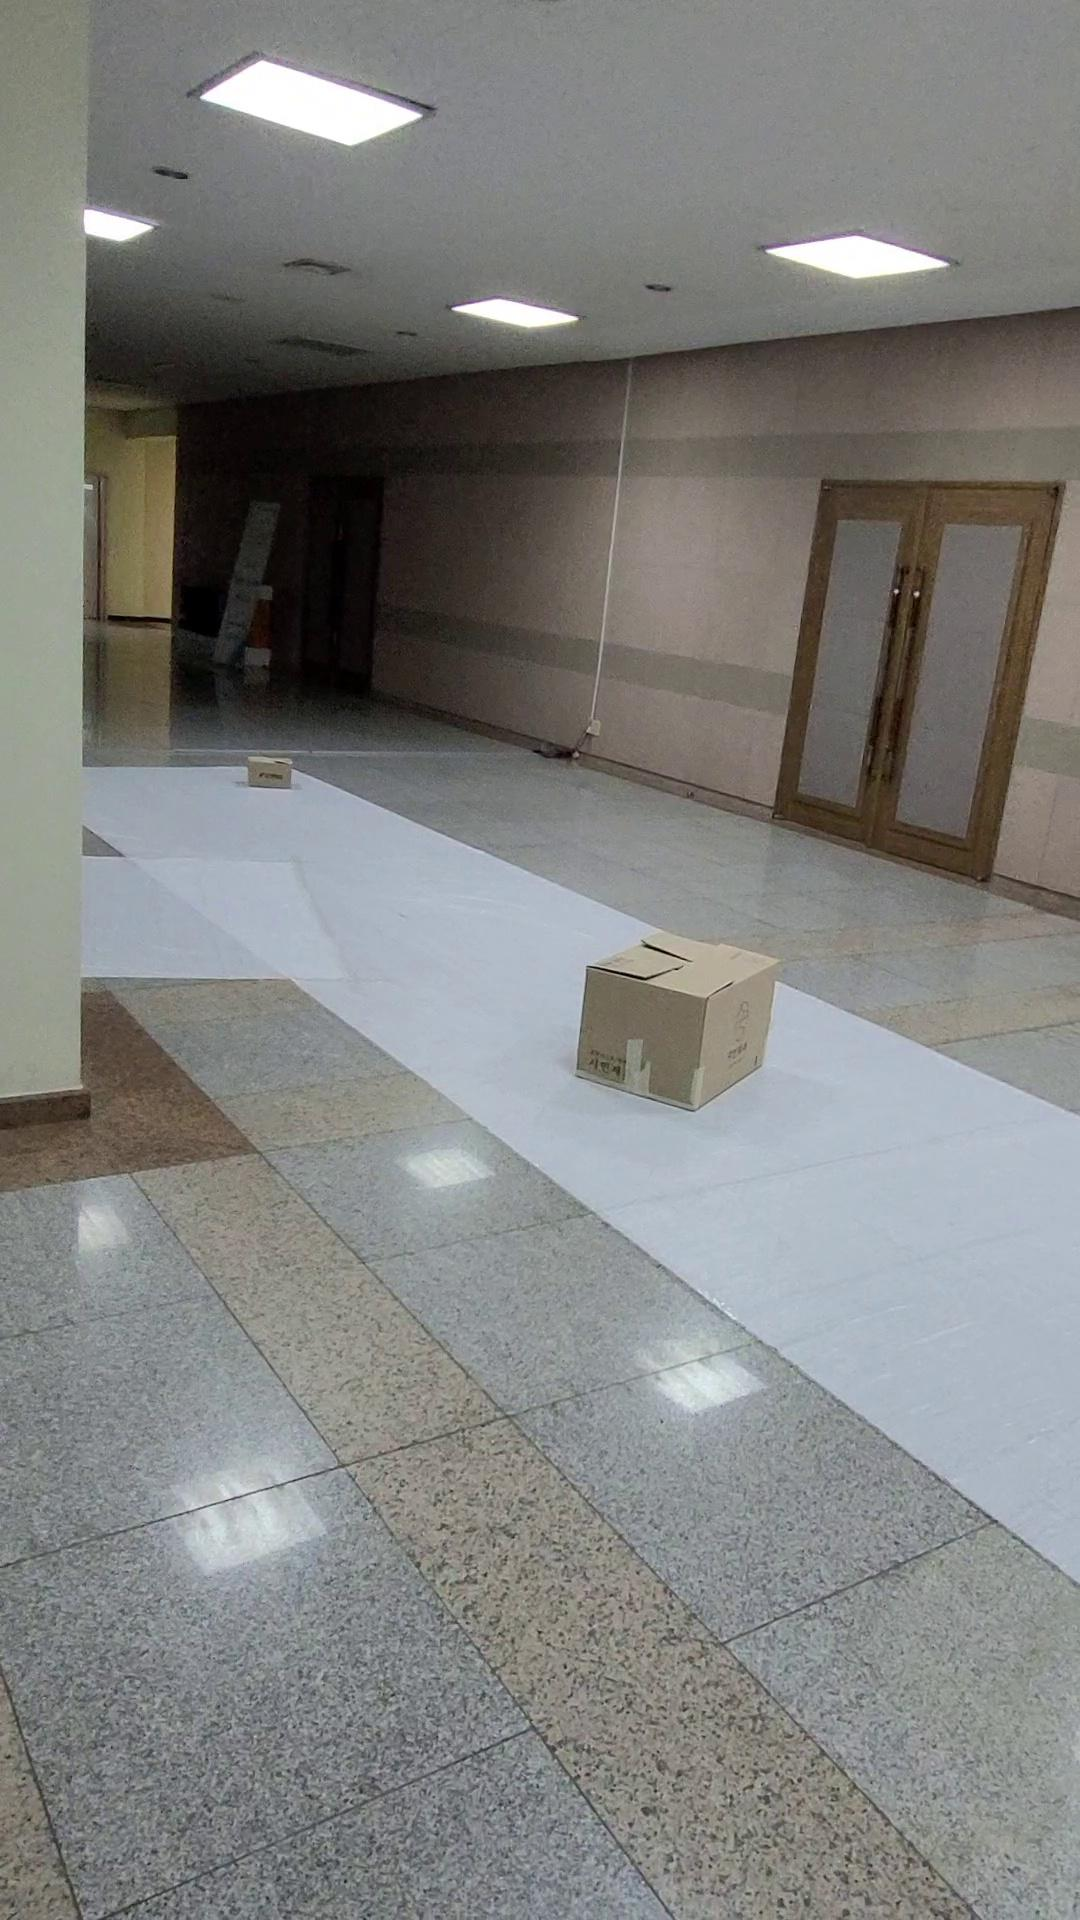Box: (533, 895, 796, 1135), (231, 733, 357, 858)
